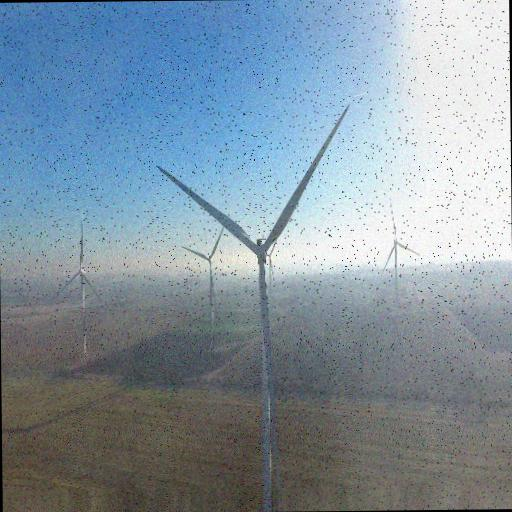wind turbine: (157, 104, 350, 511), (47, 223, 116, 354), (180, 230, 228, 328), (374, 218, 423, 293)
